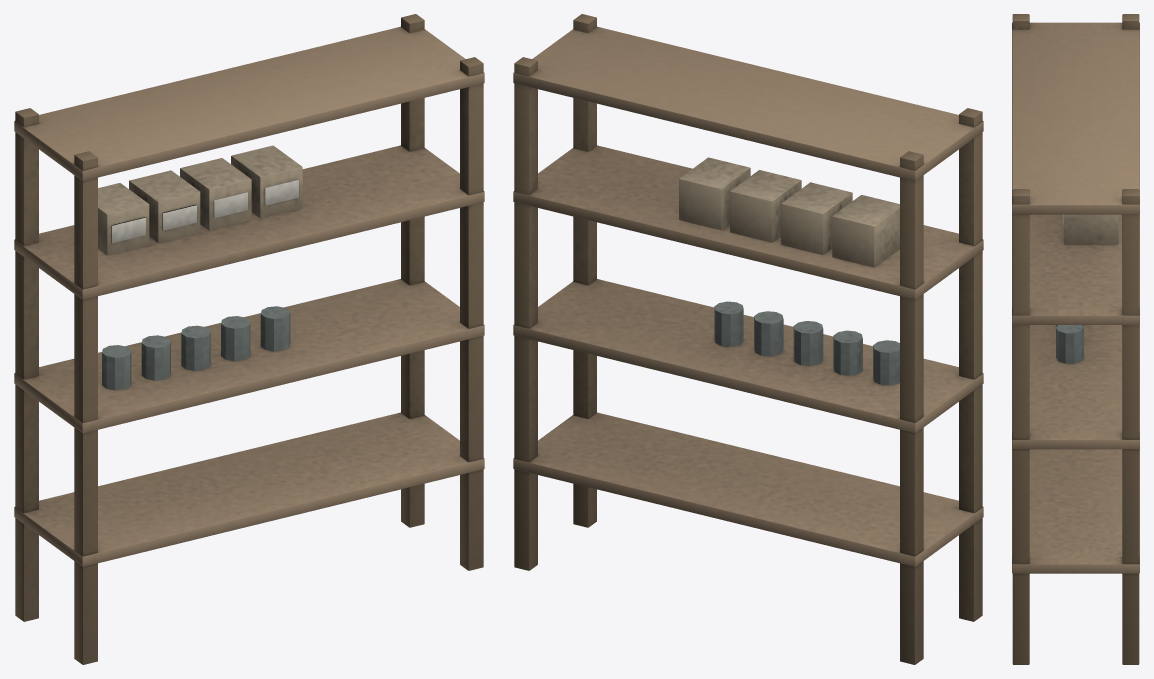
Rendered from storage_shelves.glb.
3 renders of one model, left to right at view 1: azimuth 30°, elevation 25°; view 2: azimuth 150°, elevation 25°; view 3: azimuth 270°, elevation 25°, orthographic. The views are drawn at different scales.
Visible parts, largest first — view 1: storage_shelves; view 2: storage_shelves; view 3: storage_shelves.
Part boxes in pixels (x1,y1,x2,y2): storage_shelves: (14,14,484,664); storage_shelves: (513,14,983,664); storage_shelves: (1012,14,1139,664).
Size of the model in its own units: 1.42 by 1.7 by 0.42.
Materials: 1 (1 with a texture image).
